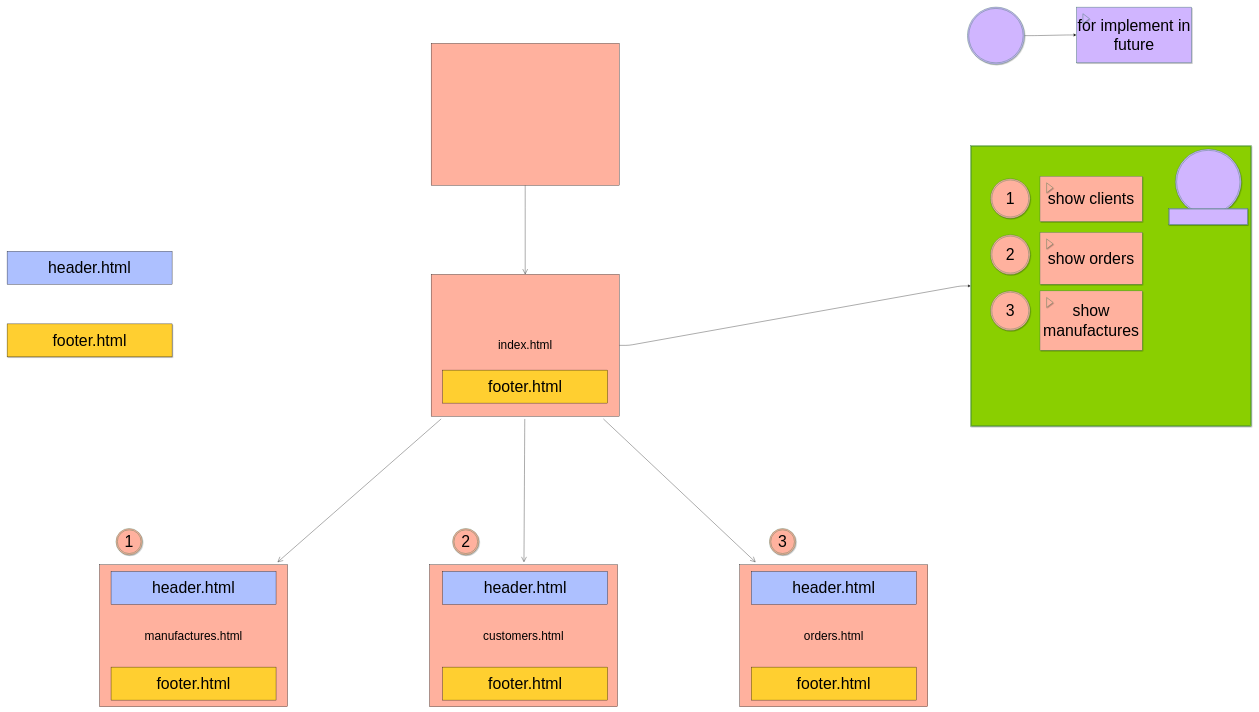
This 1259x712 diagram has some shape labels left out. The shapes that lost their labels are listed below. From the top down, each one's centre as x and y in pixels, then its label:
point (525, 114): login.html
point (1208, 182): user picture
point (1208, 217): username
